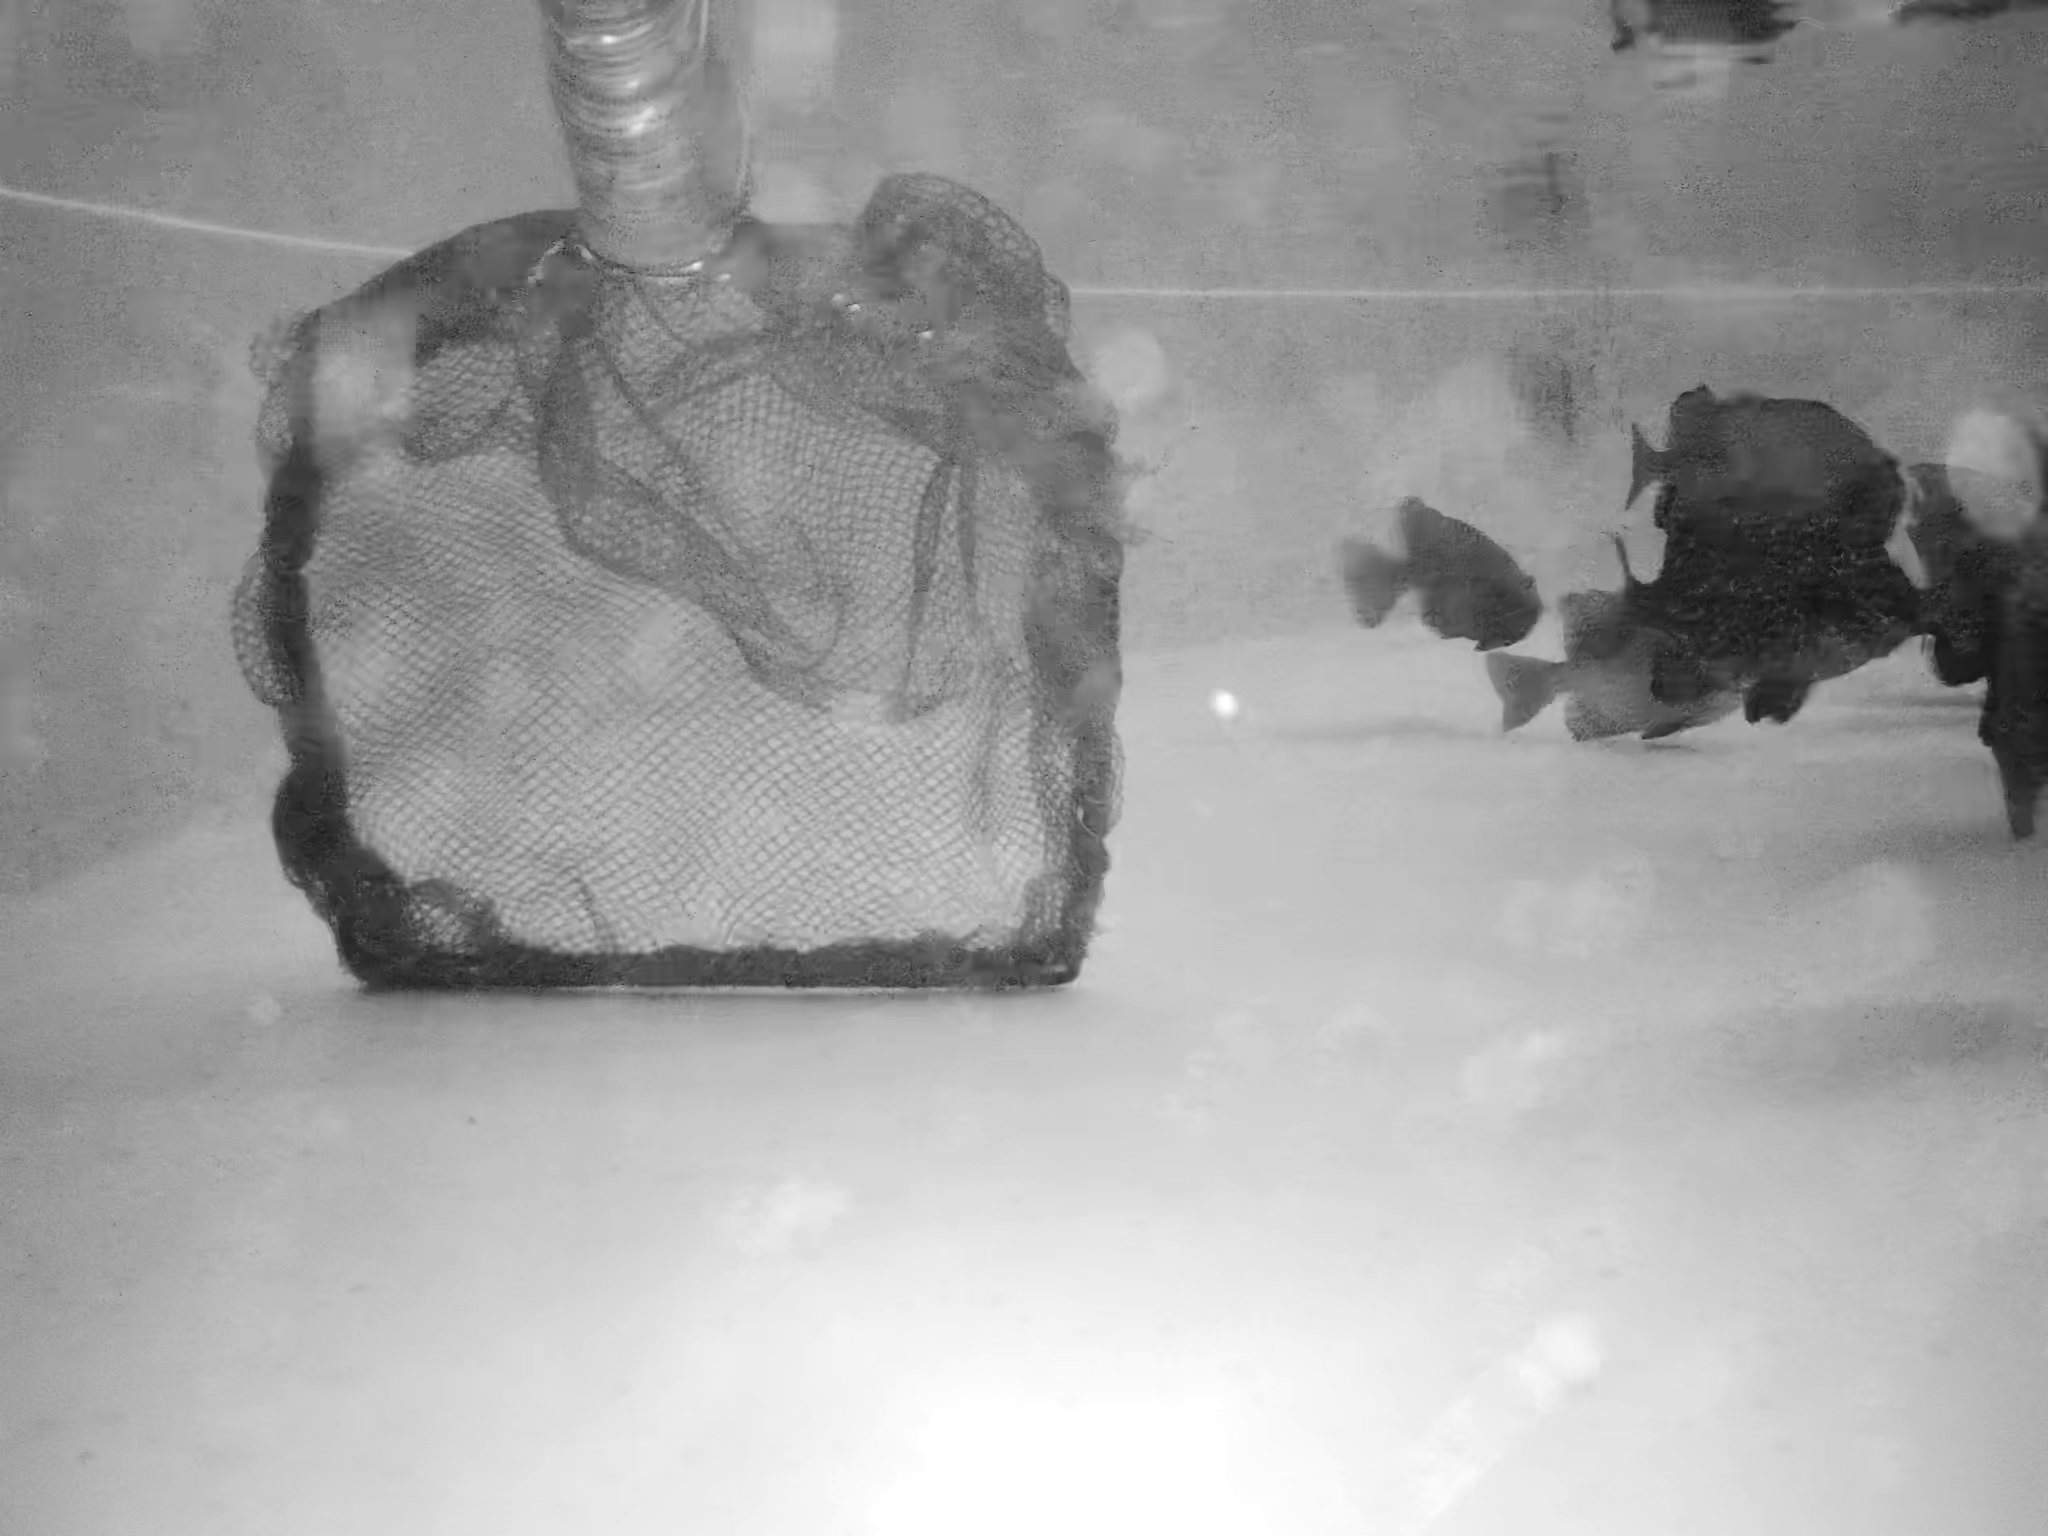fish: (1884, 407, 2048, 857), (1605, 503, 1935, 708), (1622, 382, 1904, 553), (1493, 602, 1775, 731), (1329, 482, 1542, 637)
